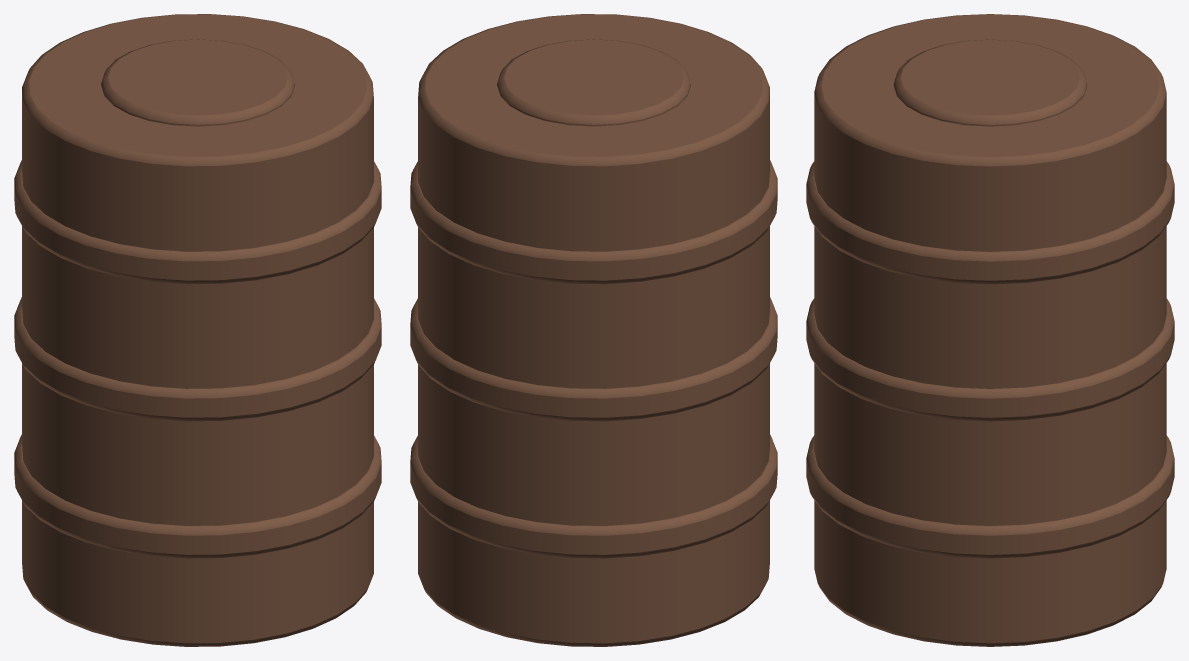
File: ModKit Prop - Barrel.glb
3 renders of one model, left to right at view 1: azimuth 30°, elevation 25°; view 2: azimuth 150°, elevation 25°; view 3: azimuth 270°, elevation 25°, orthographic.
Visible parts, largest first — view 1: SM_Barrel; view 2: SM_Barrel; view 3: SM_Barrel.
Part boxes in pixels (x1,y1,x2,y2): SM_Barrel: [14, 14, 381, 646]; SM_Barrel: [410, 14, 777, 646]; SM_Barrel: [806, 14, 1174, 646].
Bounding box in the file's own units: 0.627 × 0.935 × 0.627.
